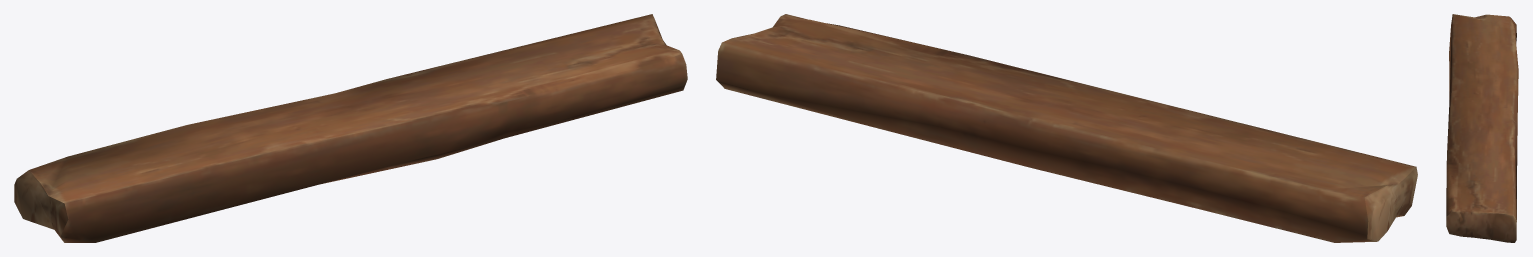
The model's file is SM_Farm_Plank_01.fbx.
3 renders of one model, left to right at view 1: azimuth 30°, elevation 25°; view 2: azimuth 150°, elevation 25°; view 3: azimuth 270°, elevation 25°, orthographic. The views are drawn at different scales.
Parts seen in each view (by area): view 1: SM_Farm_Plank_01_LOD0; view 2: SM_Farm_Plank_01_LOD0; view 3: SM_Farm_Plank_01_LOD0.
Part boxes in pixels (x1=…): SM_Farm_Plank_01_LOD0: x1=14, y1=14, x2=687, y2=242; SM_Farm_Plank_01_LOD0: x1=716, y1=14, x2=1417, y2=242; SM_Farm_Plank_01_LOD0: x1=1446, y1=14, x2=1518, y2=242.
Size of the model in its own units: 172 by 13.07 by 25.69.
